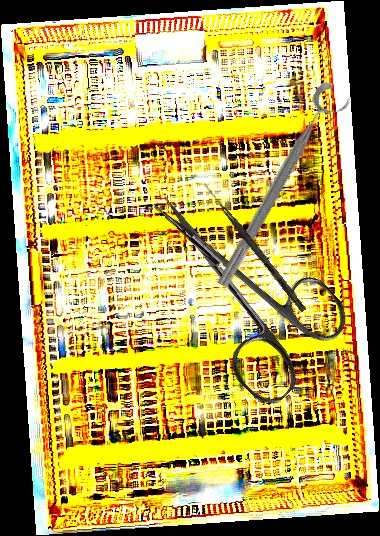Fixation Ring: (211, 79, 355, 298)
Hook Surgical: (199, 181, 309, 313)
Iris Scissors: (110, 158, 362, 413)
